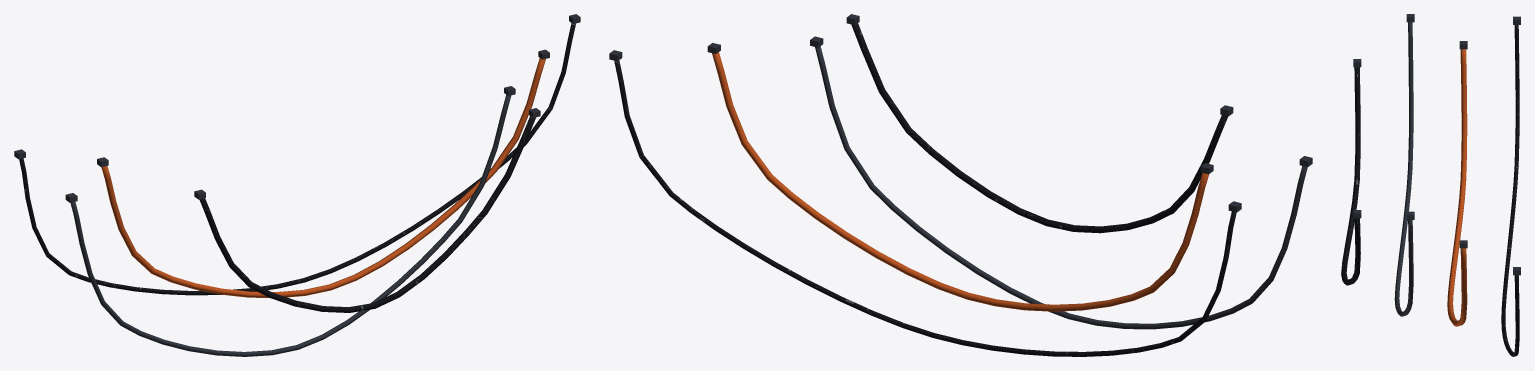
The model's file is Arch_Ceiling_HangingCables.gltf.
3 views of the same model, side by side, from view 1: azimuth 30°, elevation 25°; view 2: azimuth 150°, elevation 25°; view 3: azimuth 270°, elevation 25° (orthographic). The views are drawn at different scales.
Parts seen in each view (by area): view 1: Arch_Ceiling_HangingCables; view 2: Arch_Ceiling_HangingCables; view 3: Arch_Ceiling_HangingCables.
Boxes of the visible parts, x1=… form: Arch_Ceiling_HangingCables: x1=14, y1=14, x2=580, y2=356; Arch_Ceiling_HangingCables: x1=609, y1=14, x2=1312, y2=356; Arch_Ceiling_HangingCables: x1=1341, y1=14, x2=1520, y2=356.
Size of the model in its own units: 2.28 by 0.7768 by 0.6763.
Materials: 3 (1 with a texture image).
